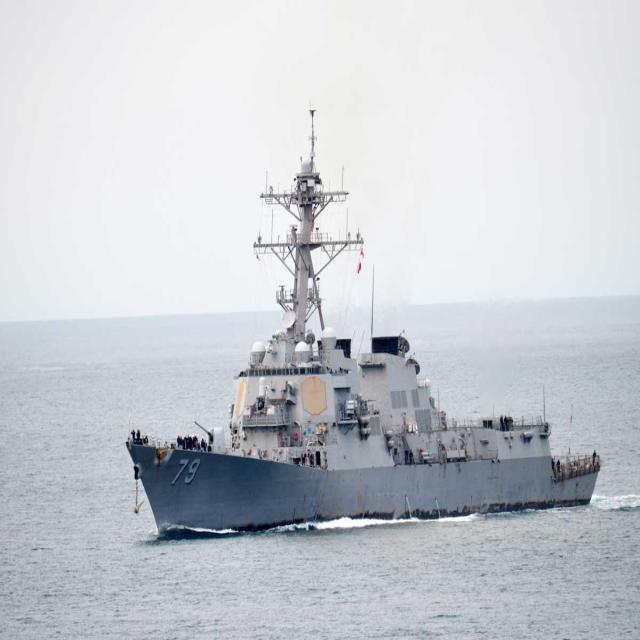navalvessels: (127, 108, 604, 536)
